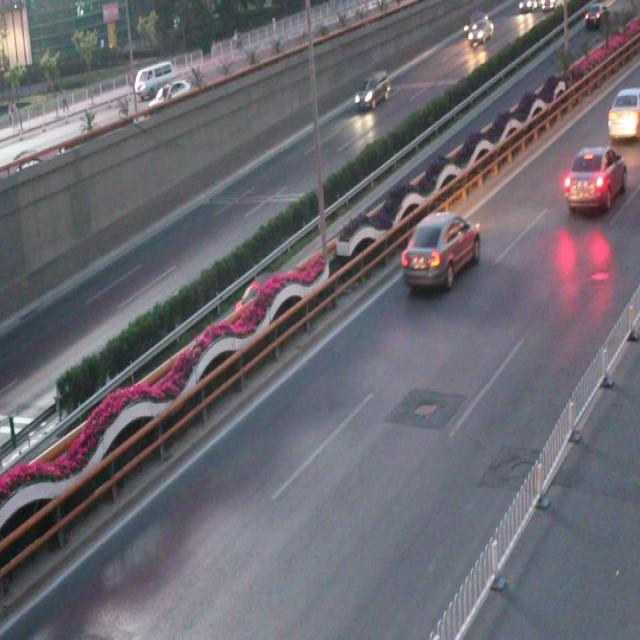car: (399, 210, 481, 287), (563, 143, 626, 211), (234, 270, 282, 311), (353, 74, 391, 112)
